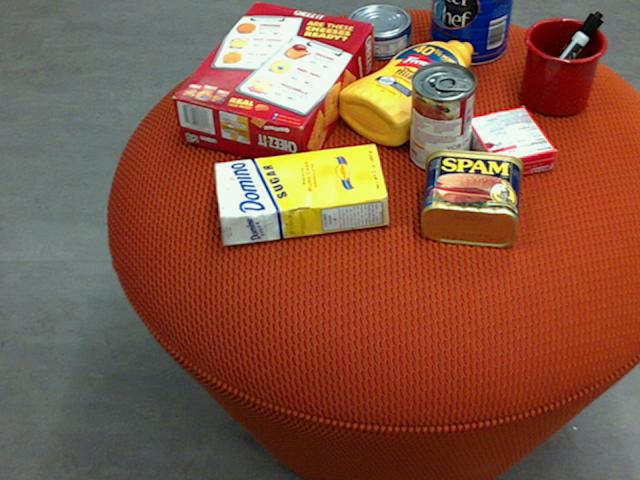cracker_box: (170, 1, 374, 170)
gelatin_box: (466, 107, 559, 180)
large_marker: (528, 9, 603, 102)
master_chef_can: (429, 0, 513, 63)
mug: (521, 16, 608, 115)
mustard_bottle: (338, 40, 474, 144)
potted_meat_can: (419, 148, 522, 246)
sugar_box: (212, 142, 389, 246)
tomato_soup_can: (410, 60, 475, 172)
tuna_fish_can: (346, 3, 411, 57)
